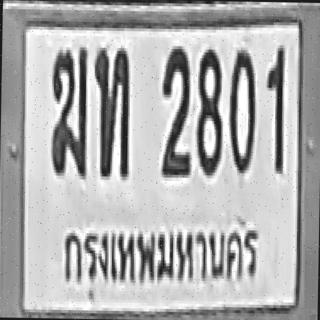A06: (49, 46, 86, 174)
A23: (93, 45, 129, 177)
N00: (227, 47, 256, 173)
N01: (264, 46, 285, 172)
N02: (160, 46, 191, 175)
N08: (195, 46, 222, 172)
P04: (58, 208, 264, 296)
